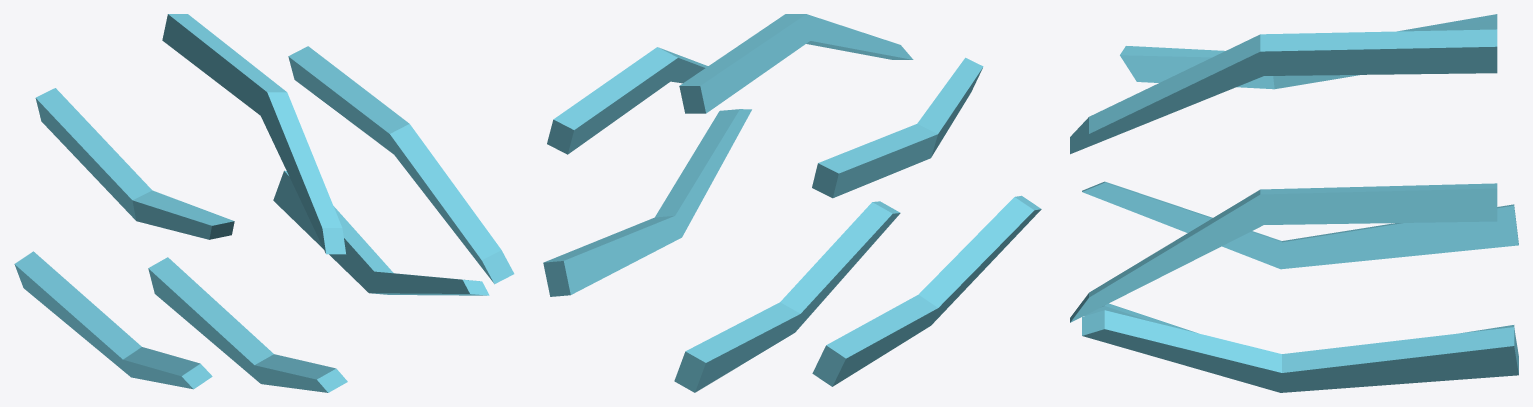
File: Wind2.gltf
3 views of the same model, side by side, from view 1: azimuth 30°, elevation 25°; view 2: azimuth 150°, elevation 25°; view 3: azimuth 270°, elevation 25° (orthographic). The views are drawn at different scales.
Parts seen in each view (by area): view 1: Wind2_glb; view 2: Wind2_glb; view 3: Wind2_glb.
Boxes of the visible parts, x1,y1,x2,y2 form: Wind2_glb: (14, 14, 514, 392); Wind2_glb: (543, 14, 1041, 392); Wind2_glb: (1070, 14, 1518, 392).
Size of the model in its own units: 1.94 by 1.77 by 2.01.
